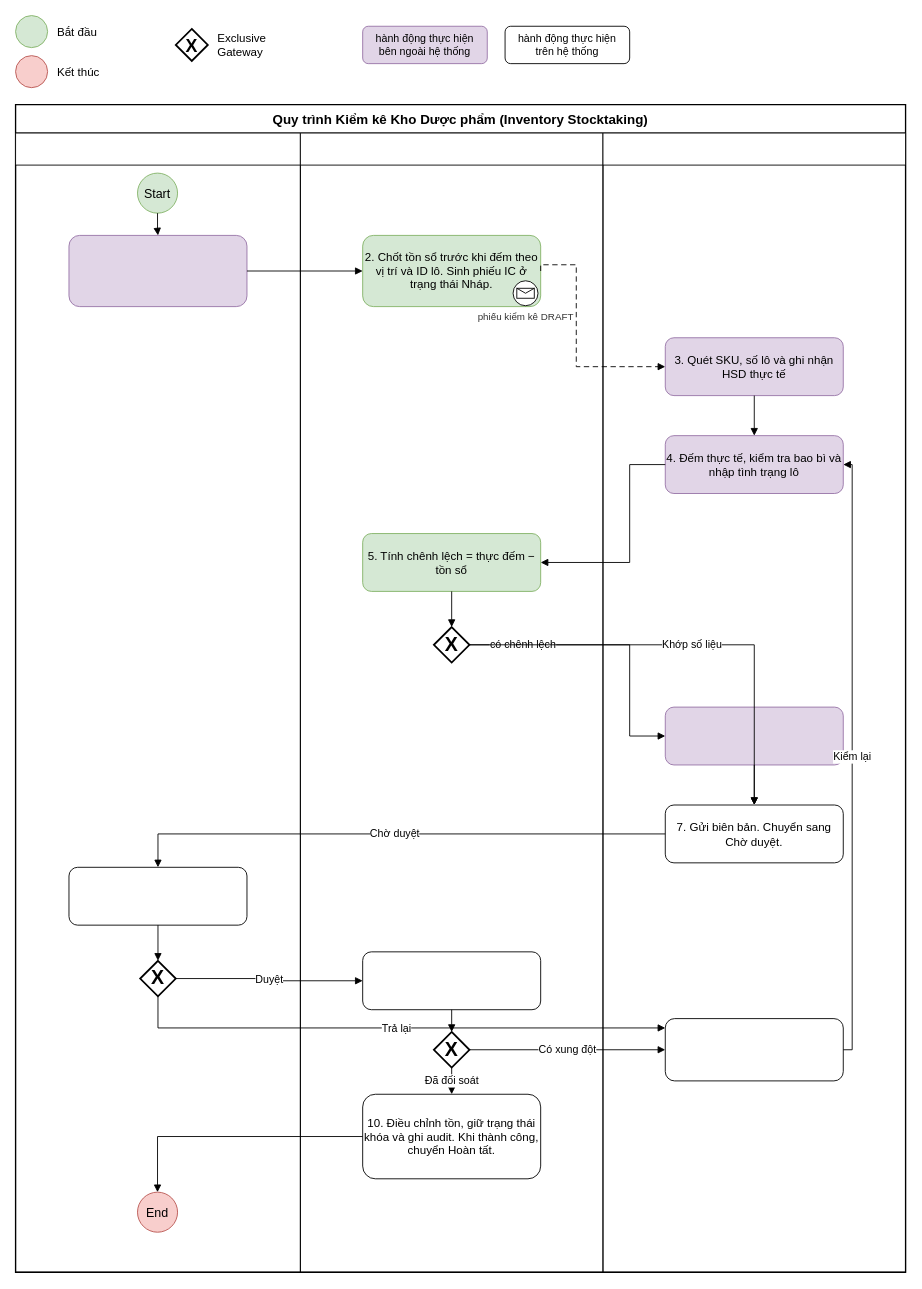
This 922x1289 diagram has some shape labels left out. The box of each missing label's shape, as (x1, y1, x2, y2) in pixels:
1. Chọn chi nhánh, phạm vi theo kệ hoặc nhóm thuốc và phân công nhân viên: (68, 235, 247, 307)
6. Rà soát và nhập lý do sai lệch: (664, 706, 843, 765)
8. Quản lý xem biên bản và giải trình: (68, 866, 247, 925)
9. Đối chiếu nhập/xuất phát sinh sau lúc chốt tồn sổ: (362, 951, 541, 1010)
Hệ thống Kho (Inventory Service): (299, 132, 603, 1272)
Nhân viên kiểm kê (Inspector / Stock Staff): (602, 132, 906, 1272)
Quản lý chi nhánh (Branch Manager): (15, 132, 300, 1272)
Trả lại để cập nhật kết quả hoặc kiểm đếm lại: (664, 1018, 843, 1081)
